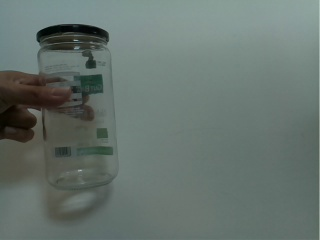pote cristal: (33, 22, 124, 194)
